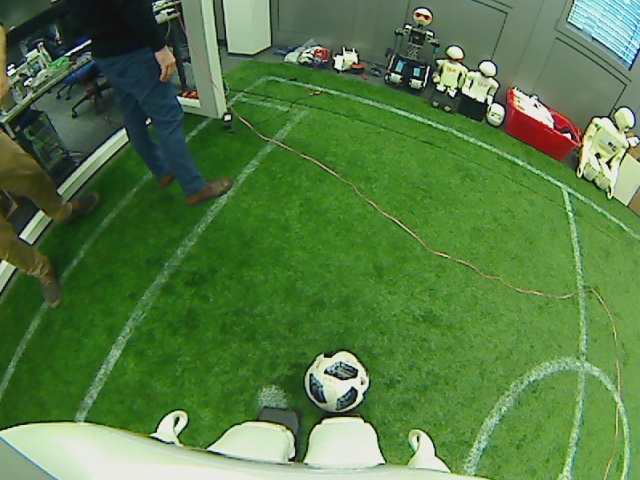ball: (303, 346, 373, 414)
